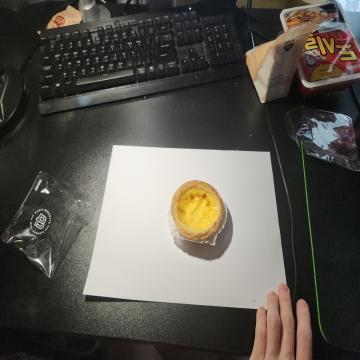EggTart: (171, 180, 225, 241)
